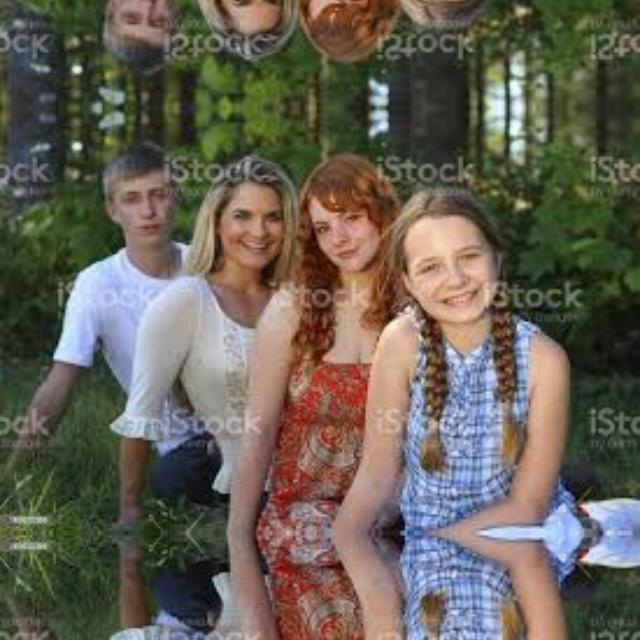person: (399, 194, 561, 452), (184, 146, 284, 406), (297, 152, 388, 418), (292, 148, 390, 322), (95, 146, 191, 288), (192, 168, 284, 310), (396, 182, 492, 308), (184, 0, 283, 68), (95, 0, 191, 68), (292, 0, 389, 66), (297, 0, 388, 62), (399, 614, 561, 640), (192, 0, 283, 46), (399, 0, 561, 19), (396, 0, 491, 32)
